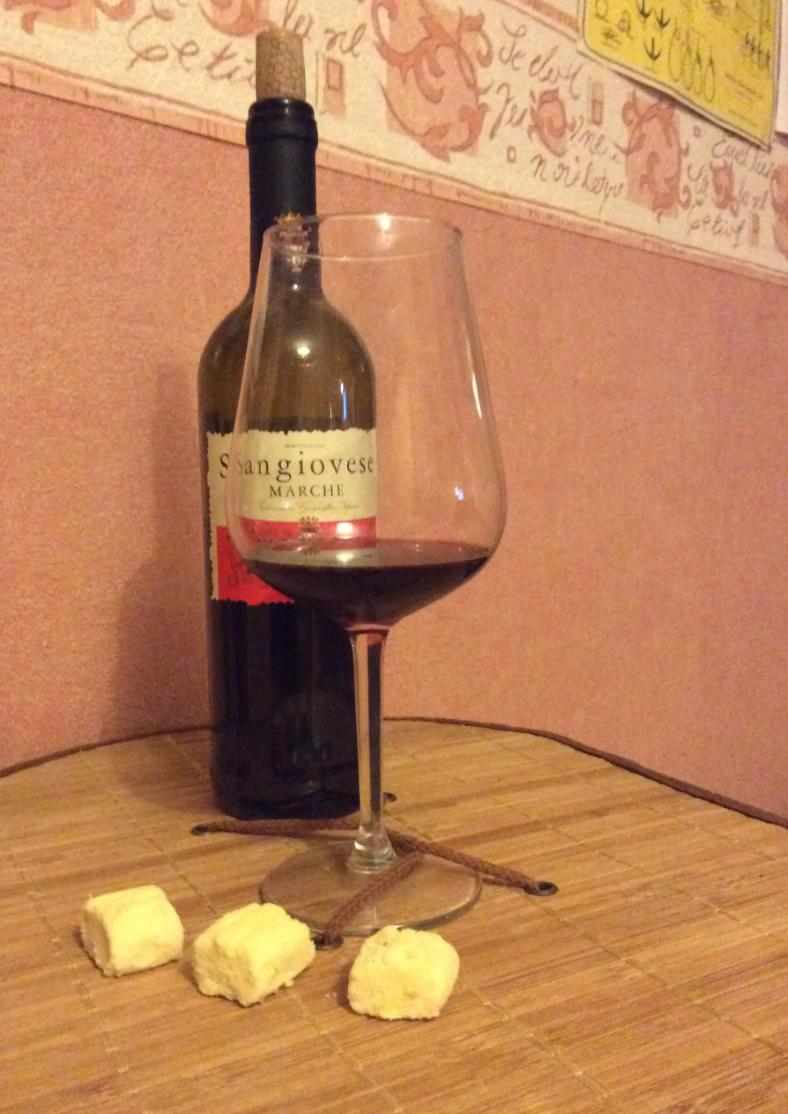wine bottle: (197, 94, 388, 819)
wine label: (209, 425, 382, 604)
